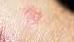plaque psoriasis: (25, 7, 42, 26), (0, 23, 8, 42)
